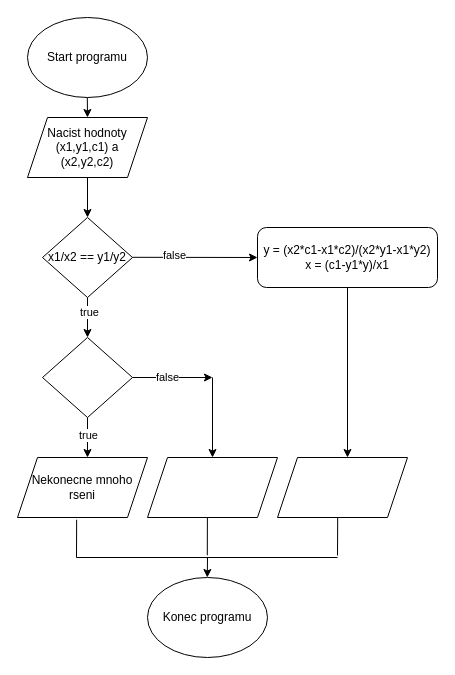
The diagram is 455 pixels wide and 675 high, and some of its shapes have lost their labels. The centre of each missing label's shape, as x and y in pixels:
"c1*x2/x1 == c2" goes at pixel 87 377.
"Nema zadne reseni" goes at pixel 212 487.
"Vypis reseni (x, y)" goes at pixel 342 487.
